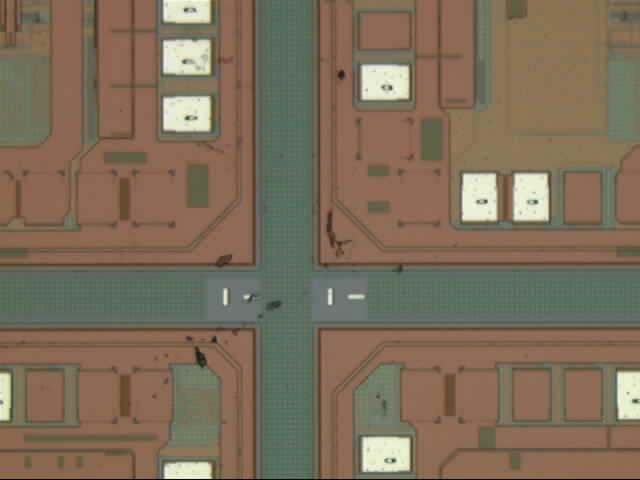PO CONTAMINATION: (184, 66, 414, 372)
